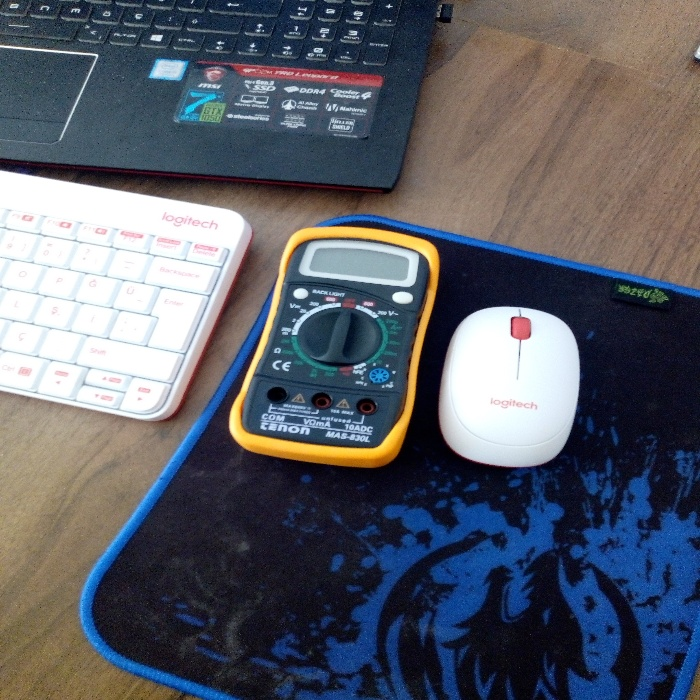multimetre: (203, 202, 455, 483)
